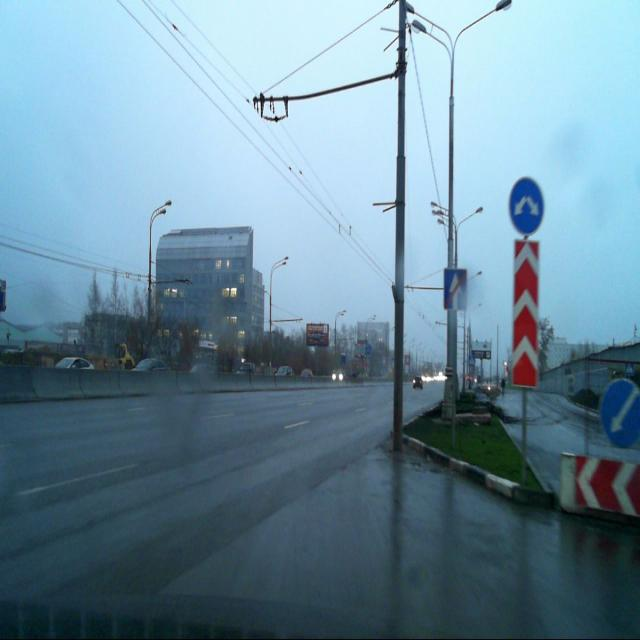object: (510, 236, 542, 390), (452, 310, 458, 450)
road sign: (443, 268, 467, 310)
